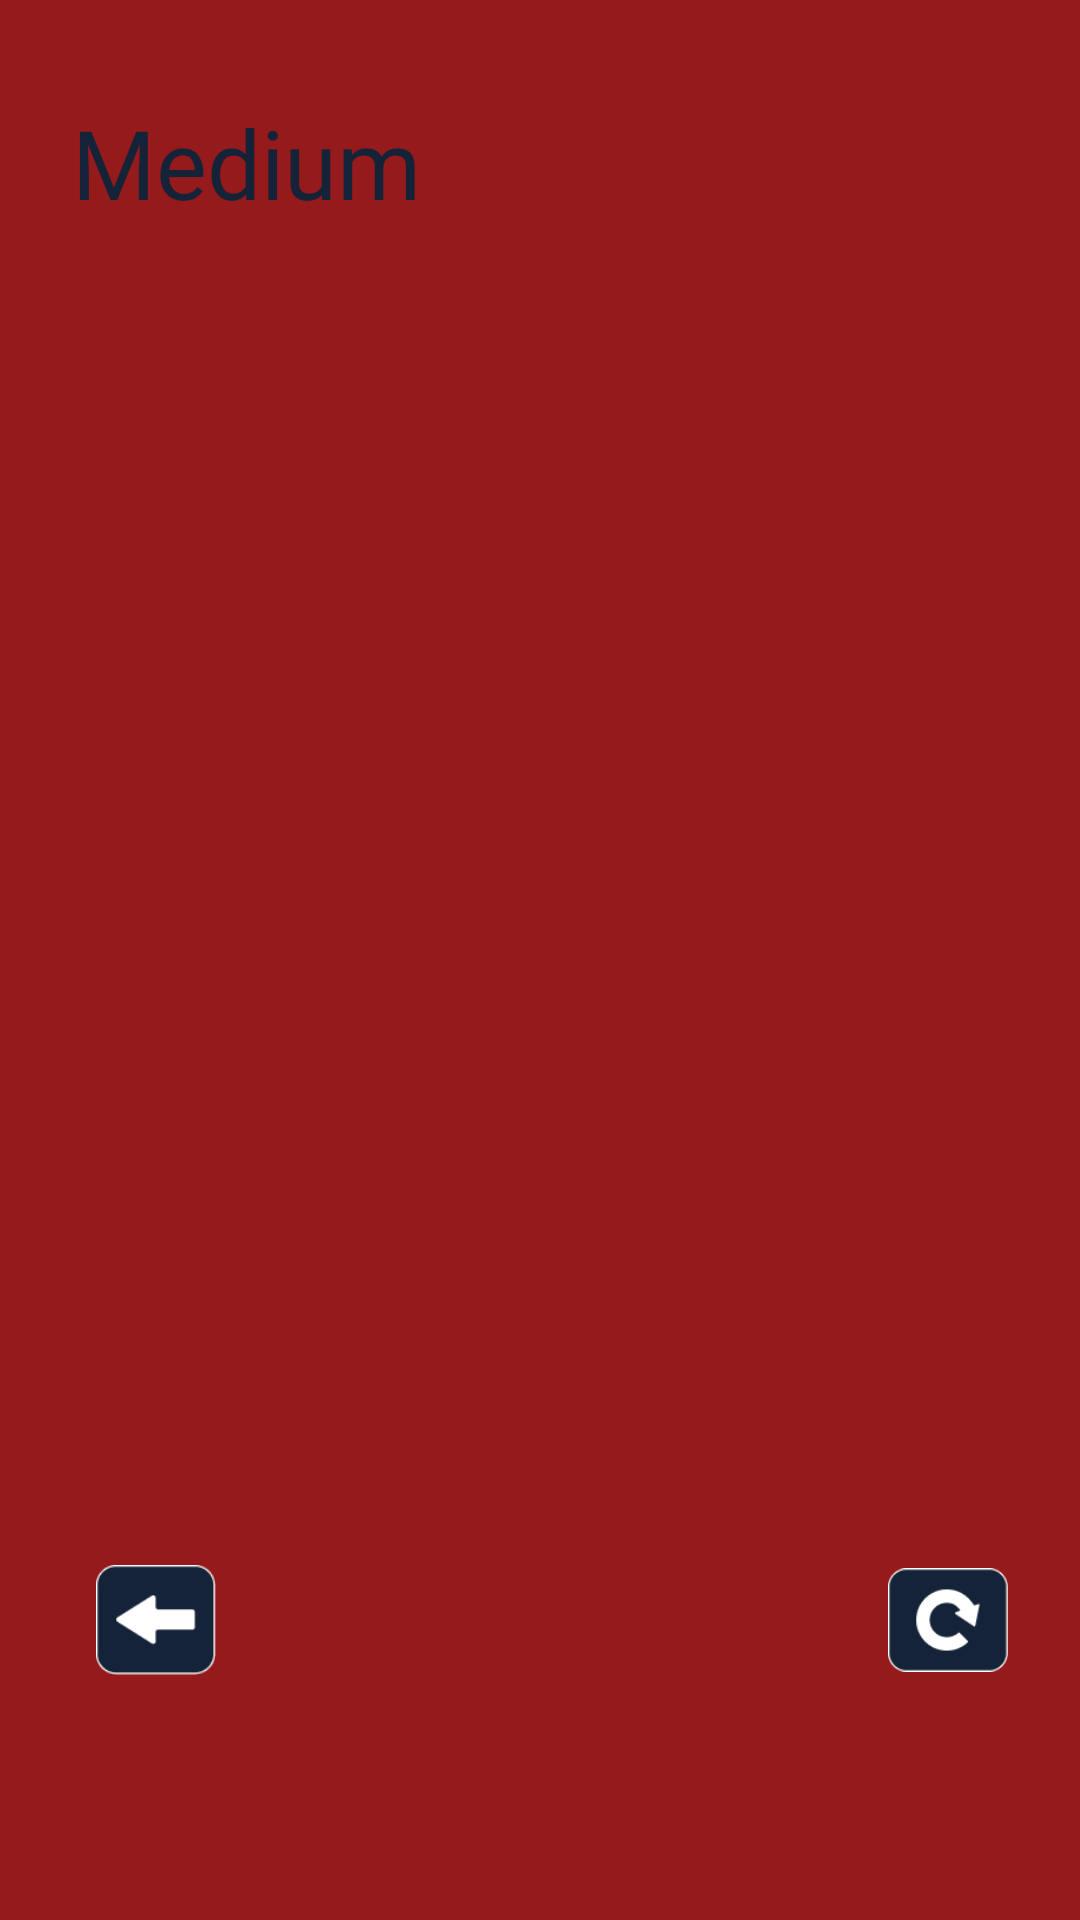

Icon click points for this 1080x1920 phone screenshot, format (x,y):
bback: (156,1620)
rrestart: (948,1620)
